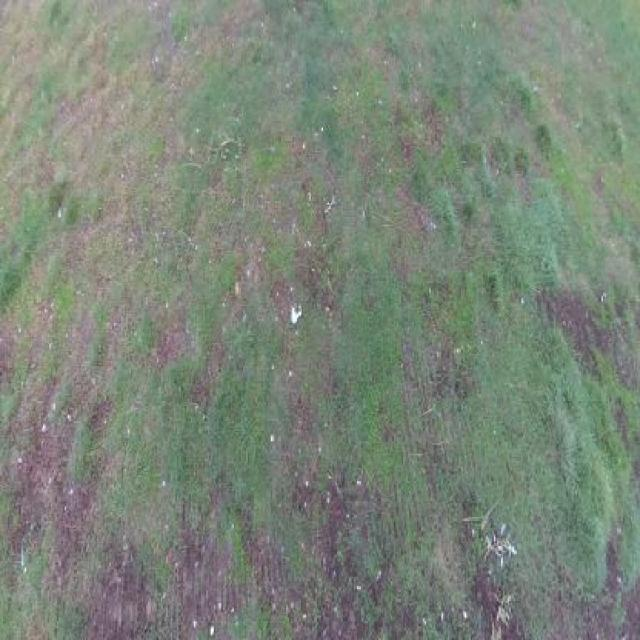Garbage: (290, 303, 303, 324)
